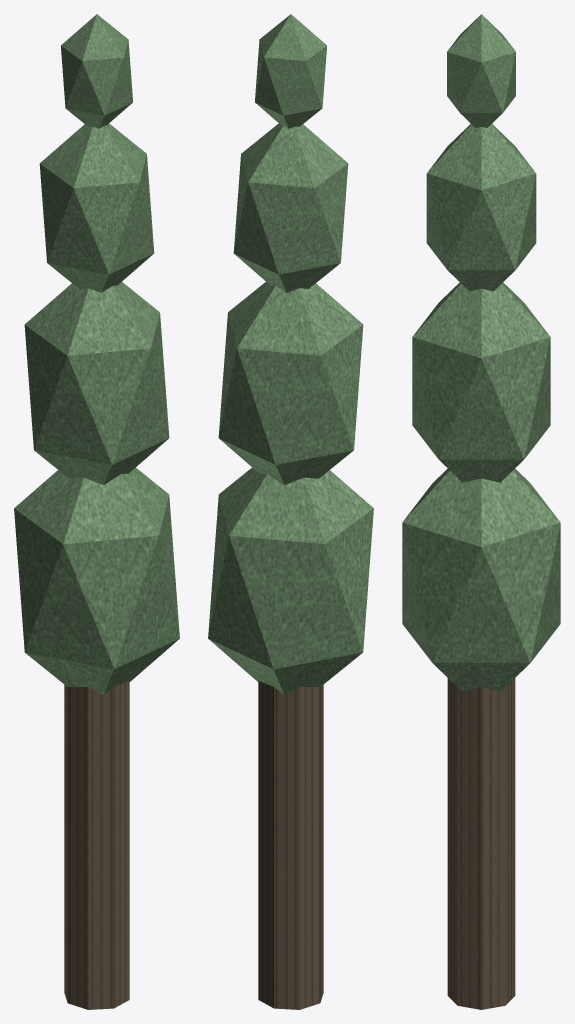
File: tree_tall_narrow.glb
The picture shows the model from 3 angles, left to right: view 1: azimuth 30°, elevation 25°; view 2: azimuth 150°, elevation 25°; view 3: azimuth 270°, elevation 25°; orthographic projection.
Visible parts, largest first — view 1: leaf_325, leaf_326, tree_trunk-col_324, leaf_327, leaf_328; view 2: leaf_325, leaf_326, tree_trunk-col_324, leaf_327, leaf_328; view 3: leaf_325, leaf_326, tree_trunk-col_324, leaf_327, leaf_328.
Part boxes in pixels (x1,y1,x2,y2): leaf_325: [14, 467, 179, 694]; leaf_326: [24, 282, 169, 485]; tree_trunk-col_324: [64, 680, 129, 1009]; leaf_327: [39, 123, 154, 292]; leaf_328: [60, 14, 132, 128]; leaf_325: [208, 467, 373, 694]; leaf_326: [218, 282, 363, 485]; tree_trunk-col_324: [258, 680, 323, 1009]; leaf_327: [233, 123, 348, 292]; leaf_328: [255, 14, 327, 128]; leaf_325: [402, 468, 560, 691]; leaf_326: [412, 282, 550, 482]; tree_trunk-col_324: [447, 678, 515, 1009]; leaf_327: [426, 124, 536, 291]; leaf_328: [447, 14, 515, 127].
Size of the model in its own units: 0.7871 by 5.11 by 0.7486.
Materials: 2 (2 with a texture image).
